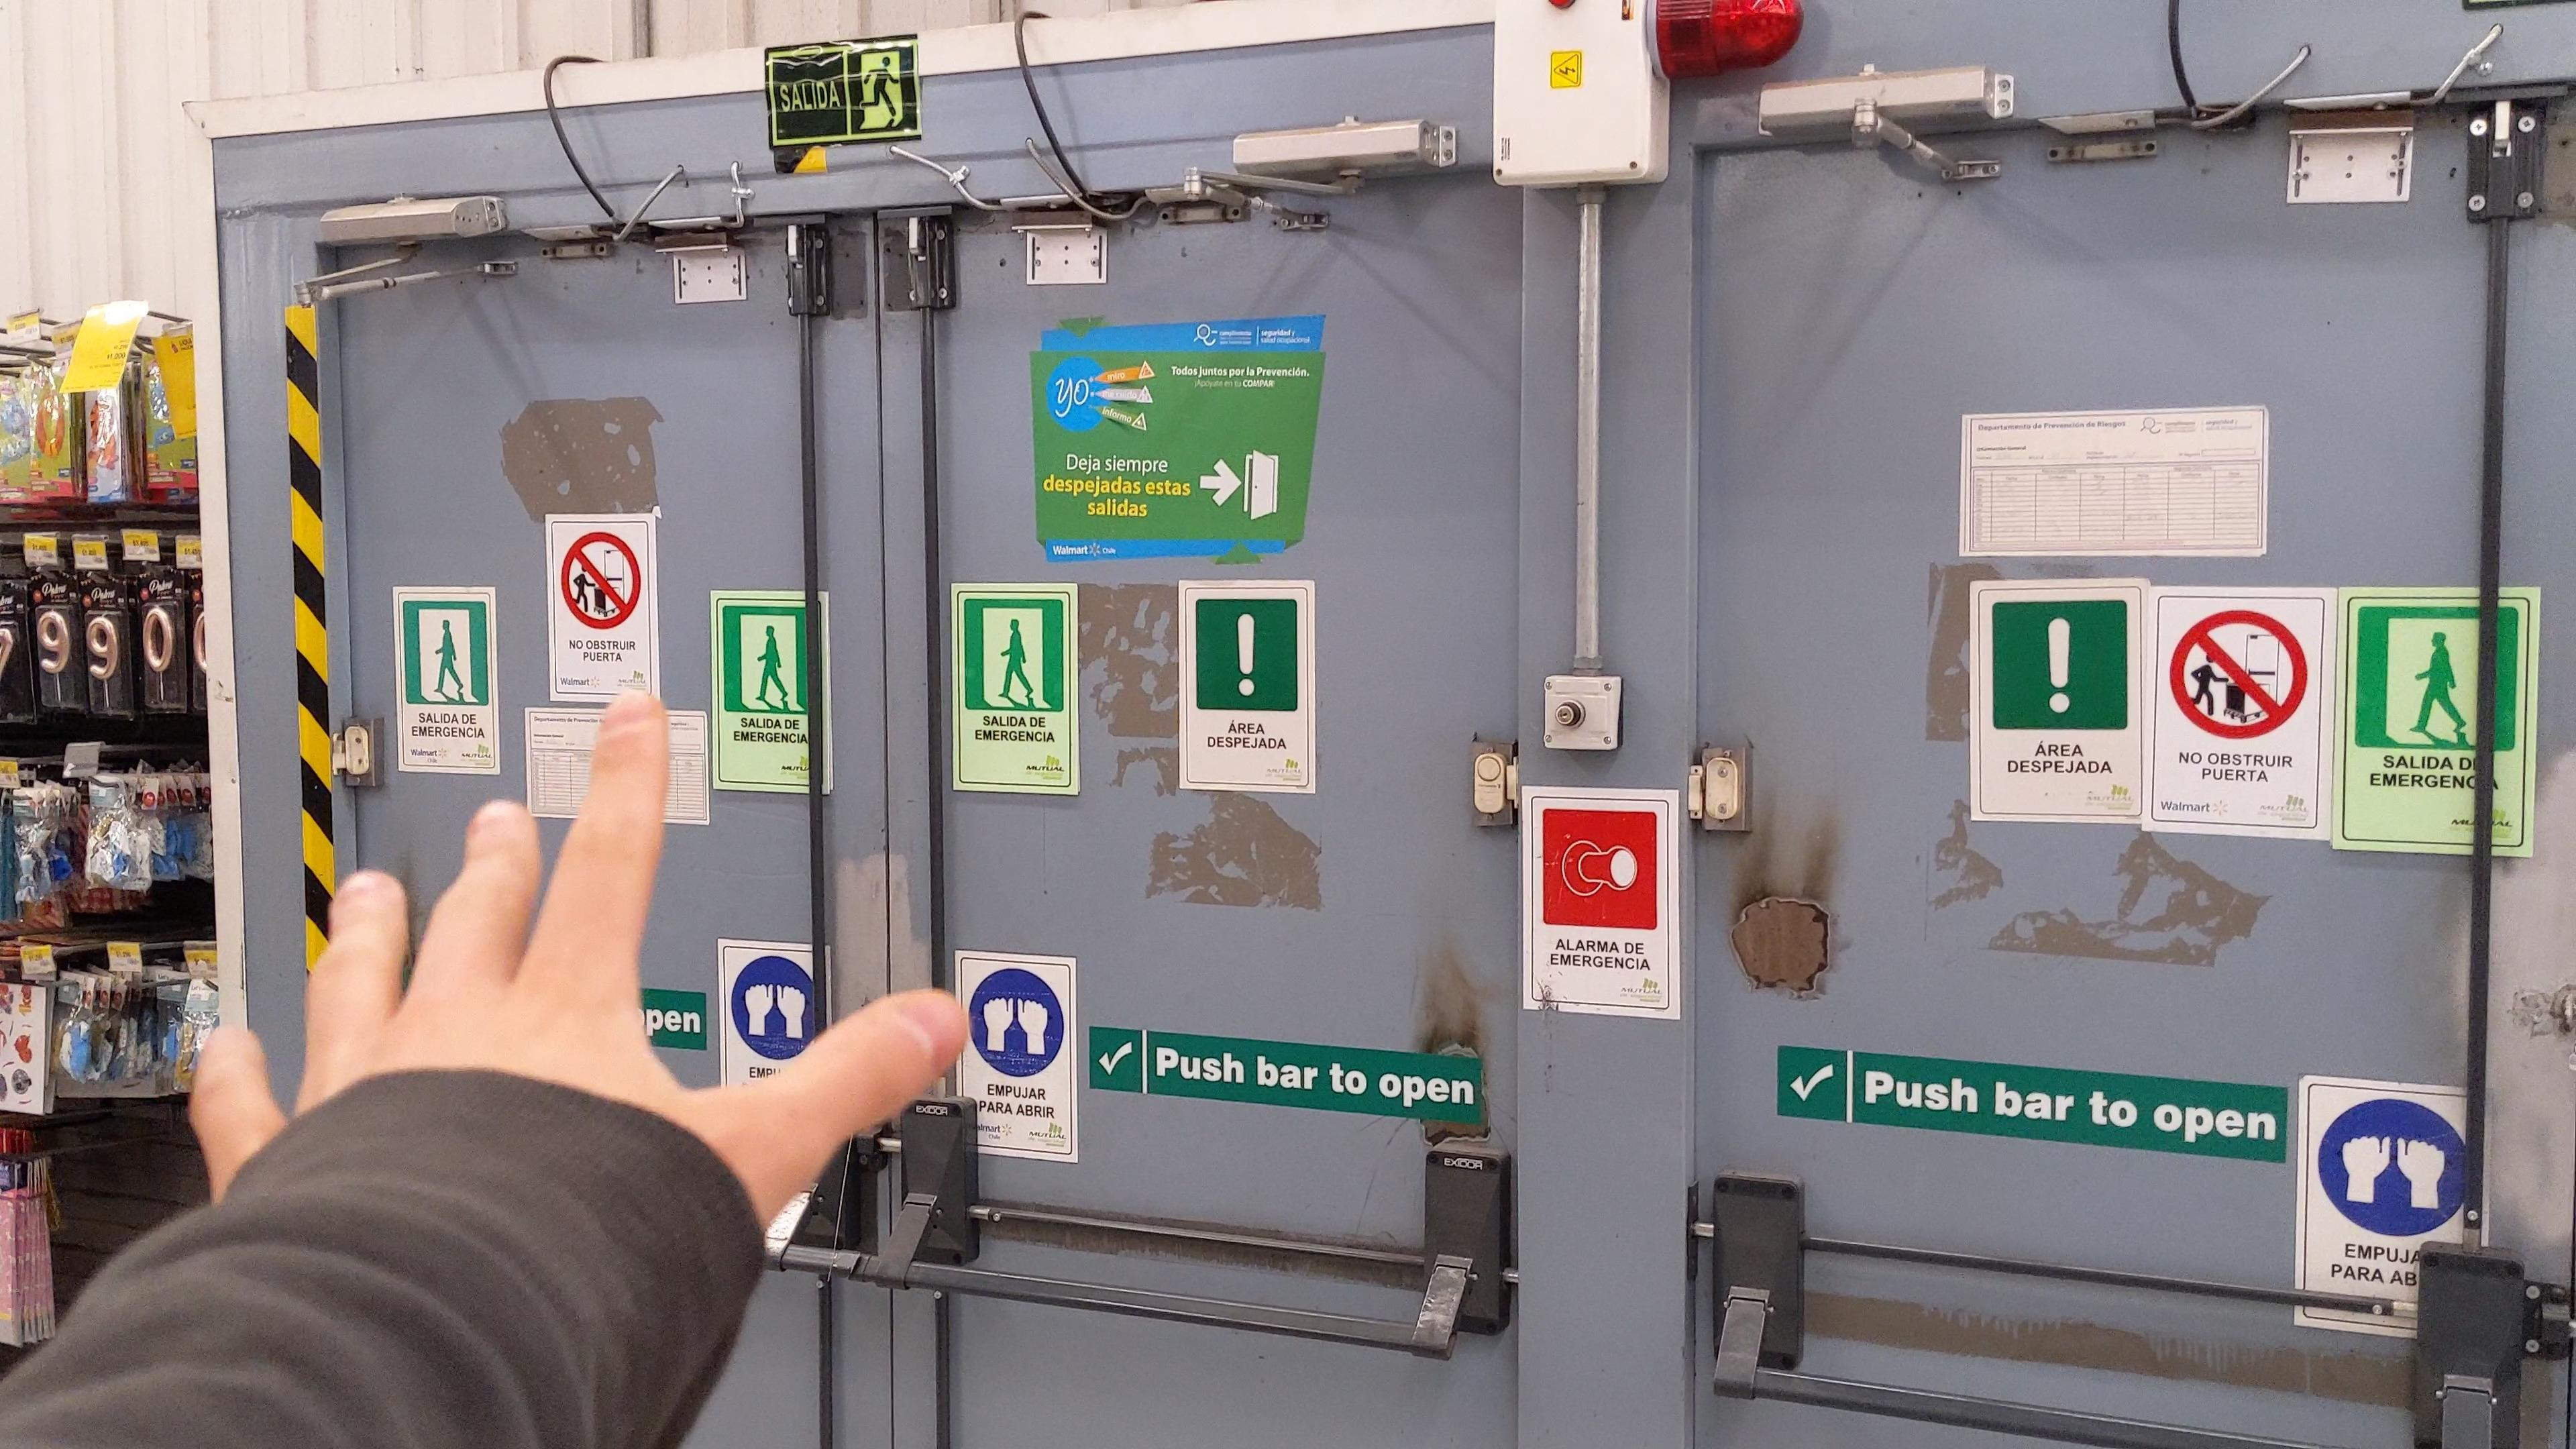emergency exit: (855, 53, 908, 136)
emergency right arrow: (1194, 449, 1244, 510)
